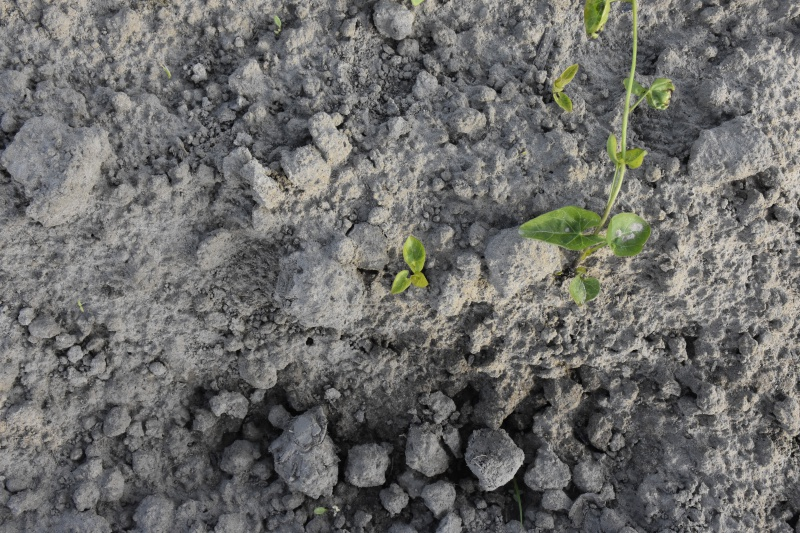field bindweed: (552, 1, 673, 311), (385, 235, 431, 300)
